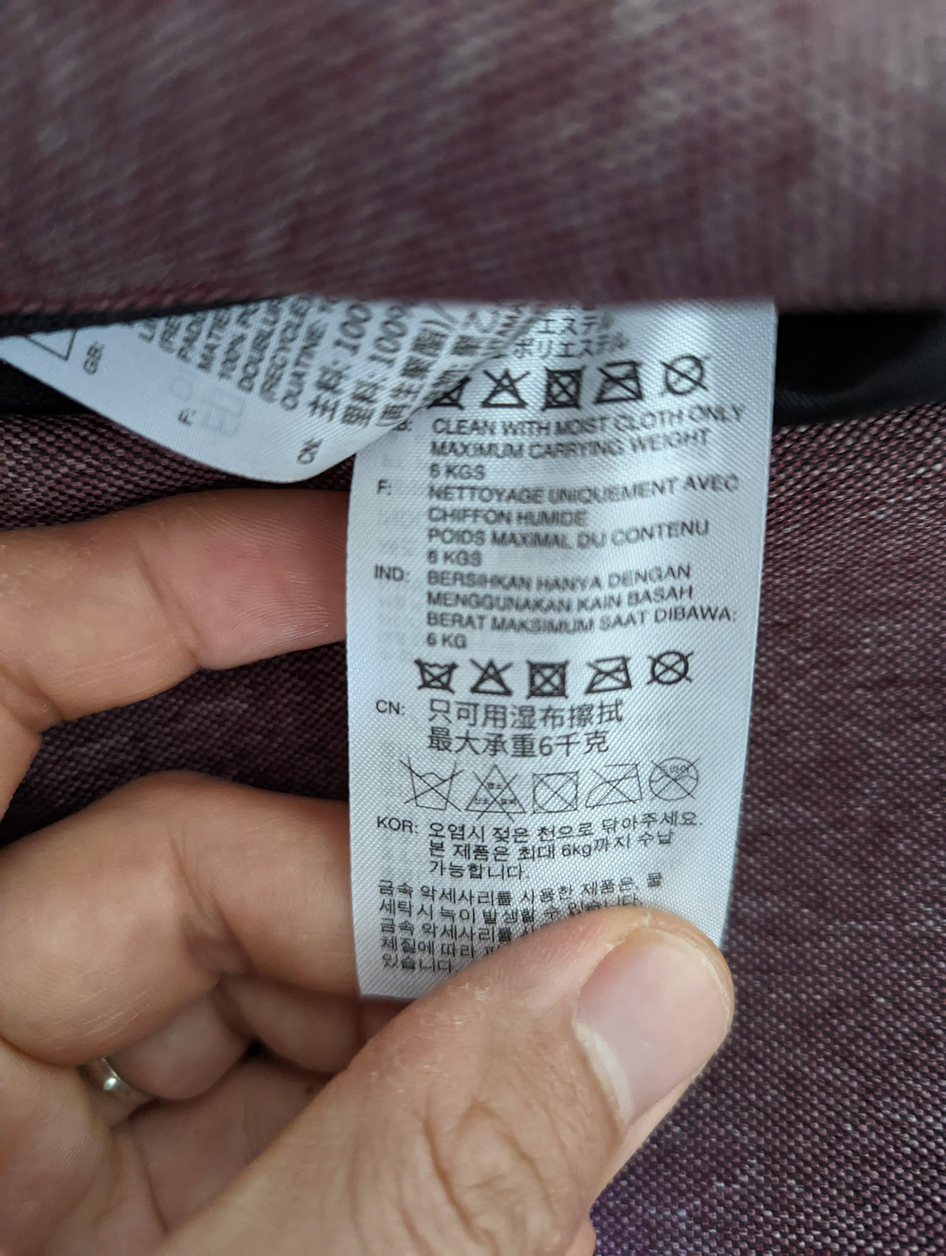ER_no_bleach: (467, 651, 520, 701)
ER_no_dry_clean: (644, 647, 699, 691)
ER_no_iron: (582, 651, 640, 703)
ER_no_tumble_dry: (523, 655, 573, 703)
ER_no_wash: (410, 655, 463, 694)
